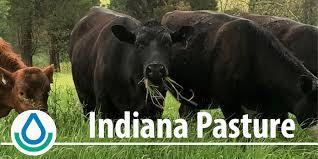cow: (160, 10, 318, 133), (68, 6, 194, 124), (232, 14, 318, 81), (0, 34, 54, 118)
